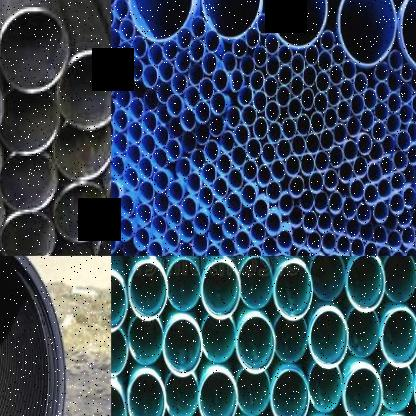pipe: (0, 256, 66, 416), (0, 4, 72, 96), (53, 47, 111, 131), (0, 87, 62, 158), (337, 0, 395, 67), (53, 178, 111, 244), (50, 121, 111, 180), (0, 153, 60, 211), (268, 0, 327, 50), (0, 207, 57, 256), (128, 0, 194, 42), (201, 0, 262, 40), (163, 318, 203, 377), (200, 262, 240, 320), (236, 316, 276, 374), (274, 262, 313, 321), (310, 310, 349, 369), (130, 261, 168, 321), (346, 256, 384, 313), (381, 308, 416, 368), (343, 368, 384, 416), (271, 368, 309, 416), (128, 370, 166, 416), (240, 257, 273, 309), (167, 259, 200, 311), (199, 371, 237, 416), (128, 317, 163, 365), (380, 362, 413, 412), (309, 363, 342, 413), (346, 309, 380, 357), (201, 315, 235, 363), (236, 368, 270, 416), (310, 256, 345, 301), (383, 256, 416, 302), (274, 316, 307, 362), (164, 373, 198, 416), (399, 0, 416, 73), (111, 274, 128, 334), (111, 328, 129, 376), (111, 384, 127, 416), (166, 94, 183, 118), (249, 222, 266, 246), (133, 227, 150, 251), (130, 36, 148, 58), (142, 65, 159, 88), (209, 92, 226, 115), (194, 101, 211, 124), (152, 170, 169, 193), (197, 186, 214, 209), (135, 203, 152, 226), (193, 212, 210, 235), (264, 213, 281, 236), (222, 216, 239, 239), (276, 229, 293, 252), (128, 58, 144, 82), (212, 68, 228, 92), (166, 204, 182, 228), (117, 218, 133, 242), (162, 39, 179, 61), (234, 124, 251, 146), (153, 193, 170, 215), (373, 201, 390, 223), (178, 220, 195, 242), (192, 233, 209, 255), (189, 39, 205, 62), (201, 52, 217, 75), (113, 63, 129, 86), (140, 134, 156, 157), (216, 153, 232, 176), (123, 167, 139, 190), (241, 184, 257, 207), (181, 197, 197, 220), (210, 201, 226, 224), (256, 164, 271, 188), (171, 73, 188, 94), (156, 83, 173, 104), (204, 30, 220, 52), (175, 50, 191, 72), (188, 63, 204, 85), (184, 86, 200, 108), (142, 111, 158, 133), (137, 157, 153, 179), (242, 160, 258, 182), (212, 177, 228, 199), (138, 181, 154, 203), (167, 181, 183, 203), (266, 181, 282, 203), (302, 211, 318, 233), (151, 216, 167, 238), (234, 231, 250, 253), (118, 41, 133, 64), (148, 43, 163, 66), (180, 109, 195, 132), (253, 117, 268, 140), (220, 130, 235, 153), (166, 139, 181, 162), (261, 142, 276, 165), (300, 153, 315, 176), (285, 154, 300, 177), (271, 159, 286, 182), (228, 168, 243, 191), (324, 169, 339, 192), (289, 175, 304, 198), (314, 191, 329, 214), (279, 193, 294, 216), (253, 199, 268, 222), (332, 213, 347, 236), (336, 233, 351, 256), (119, 19, 135, 40), (158, 61, 174, 82), (199, 77, 213, 101), (237, 86, 253, 107), (241, 105, 257, 126), (153, 126, 169, 147), (112, 133, 128, 154), (190, 149, 206, 170), (225, 194, 241, 215), (208, 223, 224, 244), (253, 45, 268, 67), (265, 55, 280, 77), (302, 65, 317, 87), (353, 72, 368, 94), (265, 100, 280, 122), (226, 107, 241, 129), (296, 114, 311, 136), (305, 133, 320, 155), (246, 138, 261, 160), (342, 140, 357, 162), (314, 150, 329, 172), (353, 156, 368, 178), (367, 162, 382, 184), (119, 195, 134, 217), (288, 206, 303, 228), (317, 212, 332, 234), (164, 229, 179, 251), (322, 232, 337, 254), (219, 237, 236, 256), (291, 52, 305, 75), (290, 74, 304, 97), (268, 121, 282, 144), (182, 131, 196, 154), (329, 146, 343, 169), (380, 155, 394, 178), (176, 157, 190, 180), (202, 163, 216, 186), (350, 179, 364, 202), (300, 190, 314, 213), (342, 197, 356, 220), (368, 142, 384, 162), (331, 44, 346, 65), (318, 50, 333, 71), (222, 51, 237, 72), (240, 56, 255, 77), (315, 71, 330, 92), (263, 76, 278, 97), (276, 86, 291, 107), (157, 104, 172, 125), (310, 112, 325, 133), (372, 121, 387, 142), (195, 124, 210, 145), (320, 129, 335, 150), (381, 135, 396, 156), (276, 139, 291, 160), (152, 148, 167, 169), (186, 173, 201, 194), (239, 207, 254, 228), (346, 218, 361, 239), (401, 226, 416, 247), (387, 230, 402, 251), (265, 33, 279, 55), (278, 64, 292, 86), (327, 85, 341, 107), (144, 89, 158, 111), (253, 91, 267, 113), (129, 98, 143, 120), (114, 109, 128, 131), (347, 116, 361, 138), (282, 118, 296, 140), (128, 121, 142, 143), (333, 123, 347, 145), (358, 134, 372, 156), (291, 135, 305, 157), (126, 144, 140, 166), (111, 156, 125, 178), (339, 162, 353, 184), (378, 178, 392, 200), (390, 193, 404, 215), (357, 203, 371, 225), (307, 231, 321, 253), (232, 38, 247, 58), (304, 45, 319, 65), (375, 82, 390, 102), (287, 98, 302, 118), (209, 116, 224, 136), (359, 222, 374, 242), (292, 227, 307, 247), (262, 236, 277, 256), (301, 88, 314, 111), (329, 192, 342, 215), (246, 27, 260, 48), (342, 59, 356, 80), (250, 70, 264, 91), (340, 79, 354, 100), (117, 87, 131, 108), (314, 92, 328, 113), (324, 108, 338, 129), (360, 110, 374, 131), (204, 141, 218, 162), (393, 150, 407, 171), (309, 172, 323, 193), (364, 185, 378, 206), (402, 187, 416, 208), (374, 225, 388, 246), (351, 94, 364, 116), (337, 100, 350, 122), (374, 102, 389, 121), (386, 114, 401, 133), (321, 30, 335, 50), (387, 93, 401, 113), (397, 130, 411, 150), (232, 146, 246, 166), (364, 88, 377, 109), (122, 239, 138, 256), (397, 209, 412, 227), (114, 0, 128, 19), (278, 45, 292, 64), (329, 65, 343, 84), (391, 172, 405, 191), (388, 71, 400, 93), (375, 63, 390, 80), (231, 69, 242, 92), (400, 105, 413, 124), (351, 237, 364, 256), (147, 241, 163, 256), (178, 241, 194, 256), (401, 83, 412, 104), (111, 29, 121, 51), (384, 216, 398, 231), (407, 121, 416, 143), (111, 181, 119, 205), (407, 145, 416, 165), (364, 243, 377, 256), (111, 206, 118, 229), (206, 245, 220, 256), (377, 246, 392, 256), (246, 247, 261, 256), (111, 51, 117, 73), (111, 231, 116, 256), (111, 248, 126, 256), (296, 248, 311, 256), (411, 72, 416, 93), (411, 209, 416, 230), (411, 93, 416, 113), (406, 247, 416, 256), (111, 97, 115, 119), (390, 251, 405, 256), (111, 7, 114, 30), (111, 73, 114, 96)
